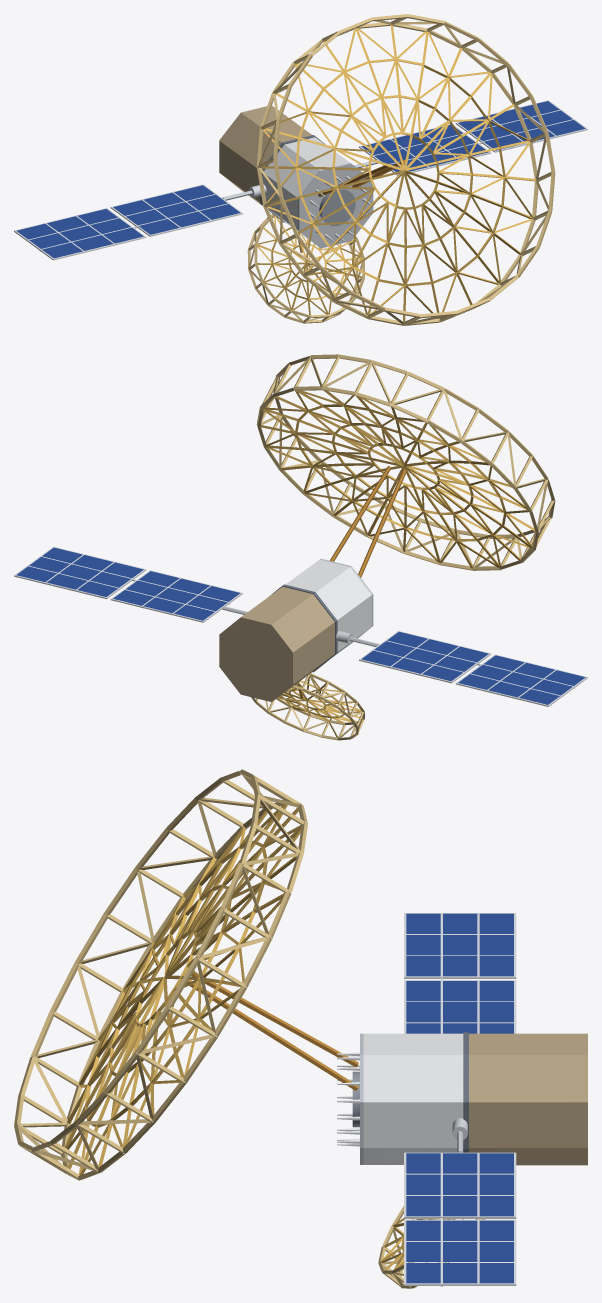
File: muos.glb
The picture shows the model from 3 angles, top to bottom: view 1: azimuth 30°, elevation 25°; view 2: azimuth 150°, elevation 25°; view 3: azimuth 270°, elevation 25°; orthographic projection. The views are drawn at different scales.
Visible parts, largest first — view 1: foil, body, solar-panel; view 2: foil, body, solar-panel; view 3: body, foil, solar-panel.
Part boxes in pixels (box(x1,y1,x2,y2)): foil: box(219, 25, 535, 321); body: box(14, 14, 587, 325); solar-panel: box(16, 101, 585, 258); foil: box(219, 390, 534, 723); body: box(14, 354, 587, 740); solar-panel: box(16, 547, 585, 704); body: box(14, 769, 516, 1288); foil: box(64, 804, 587, 1270); solar-panel: box(406, 913, 513, 1283).
Size of the model in its own units: 28.2 by 17.21 by 18.42.
